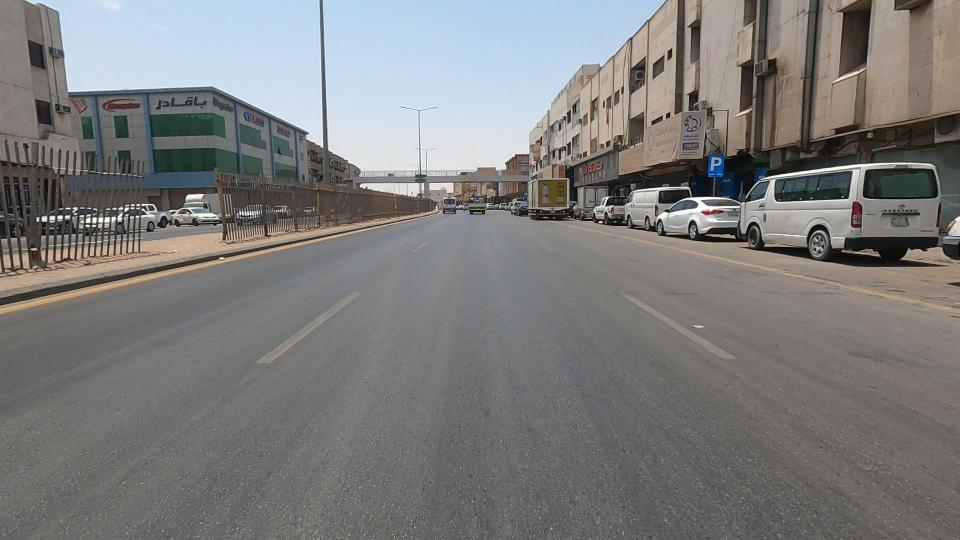BAD_BILLBOARD: (608, 89, 724, 176), (586, 106, 676, 196)
